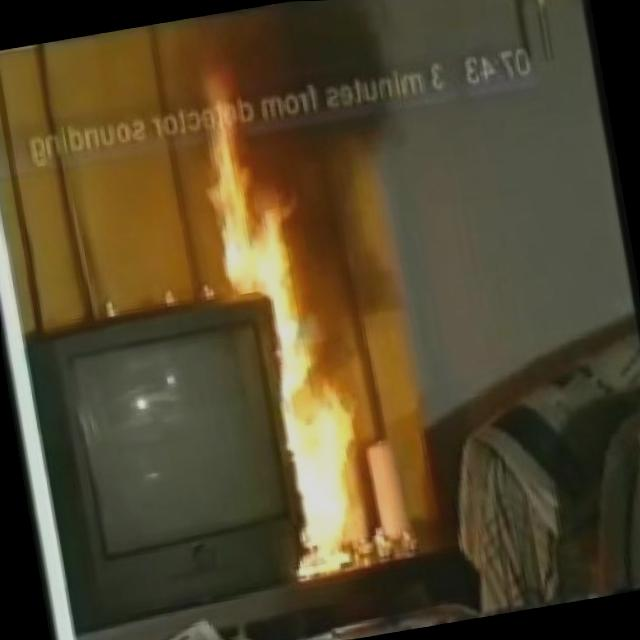fire: (221, 187, 408, 556)
